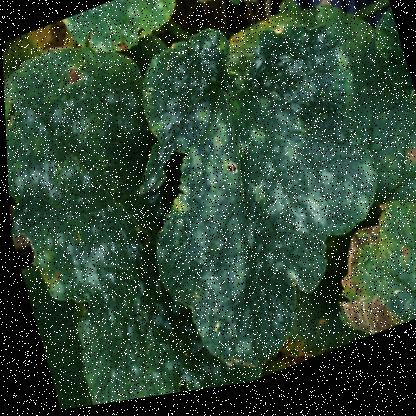PowderyMildew: (6, 75, 154, 267), (65, 206, 202, 405), (204, 96, 357, 268), (243, 48, 364, 227), (168, 178, 291, 348)
